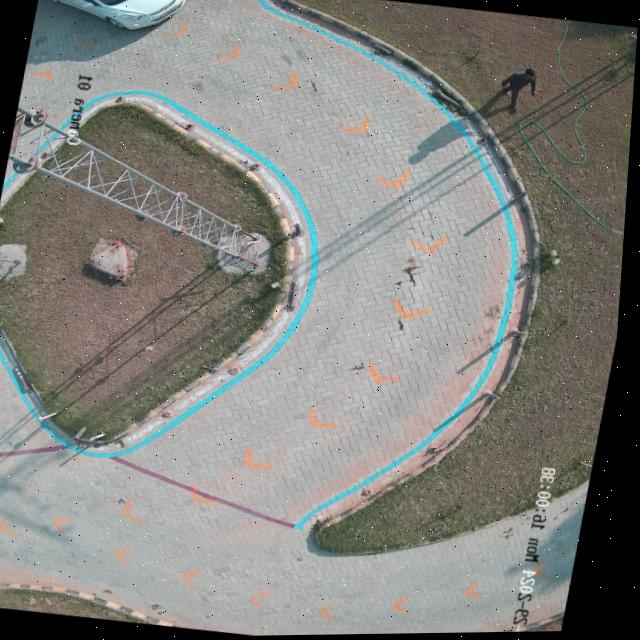car: (49, 0, 184, 30)
